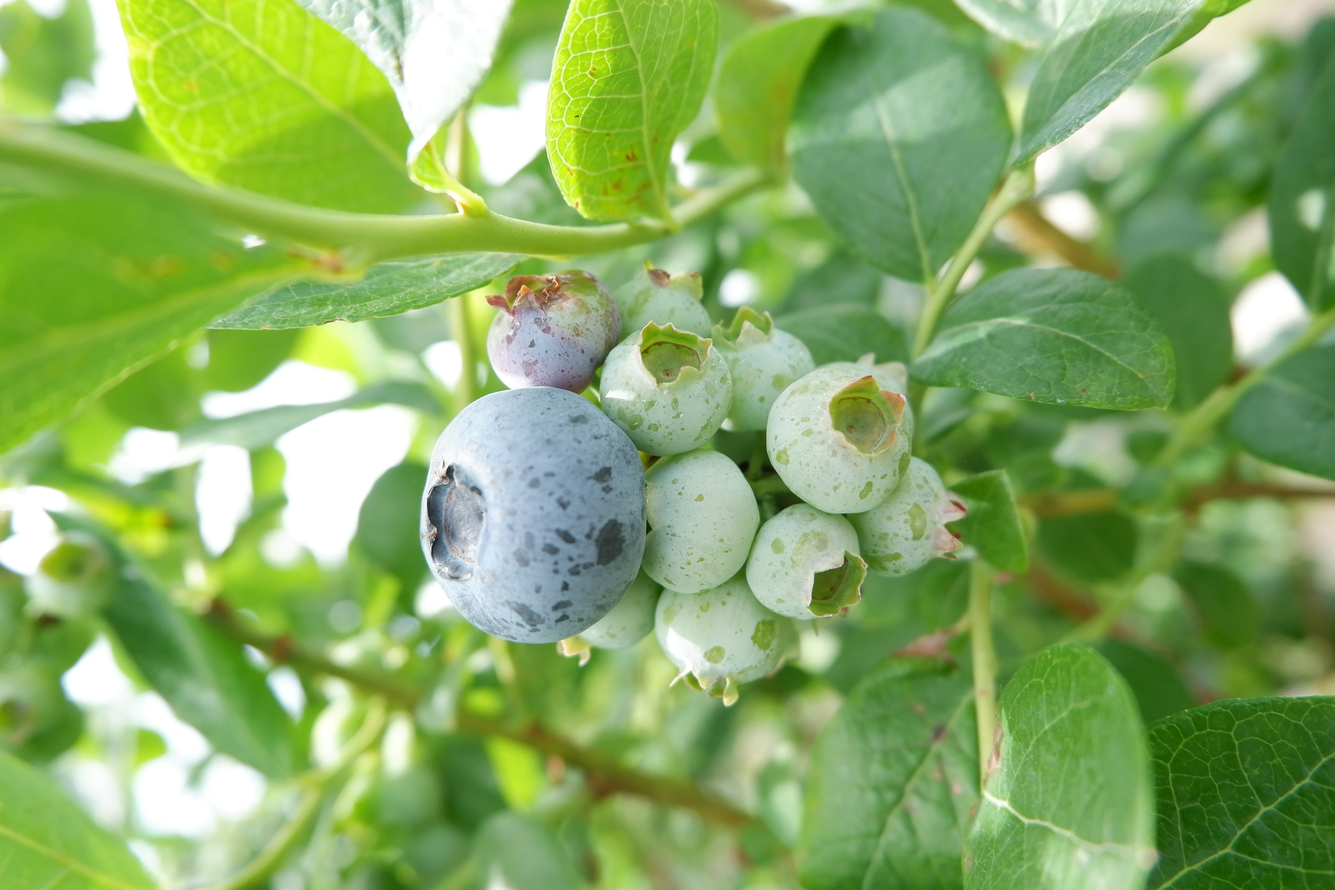Immature: (768, 367, 910, 512), (602, 324, 731, 453), (656, 572, 781, 701), (644, 454, 757, 591), (490, 274, 618, 389), (851, 461, 967, 575), (751, 508, 865, 617), (720, 318, 809, 430), (614, 264, 708, 335), (578, 572, 661, 649)
Mature: (421, 390, 644, 636)
